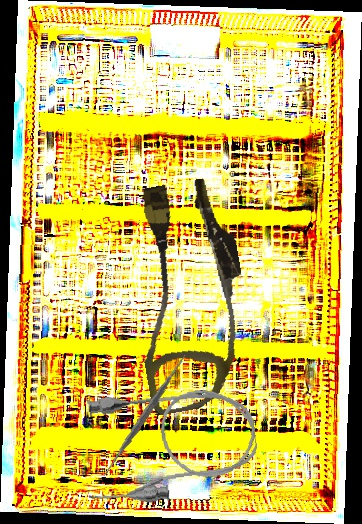Cannula: (114, 174, 264, 417), (76, 378, 263, 511)
Spatula Surgical: (83, 354, 206, 477)
